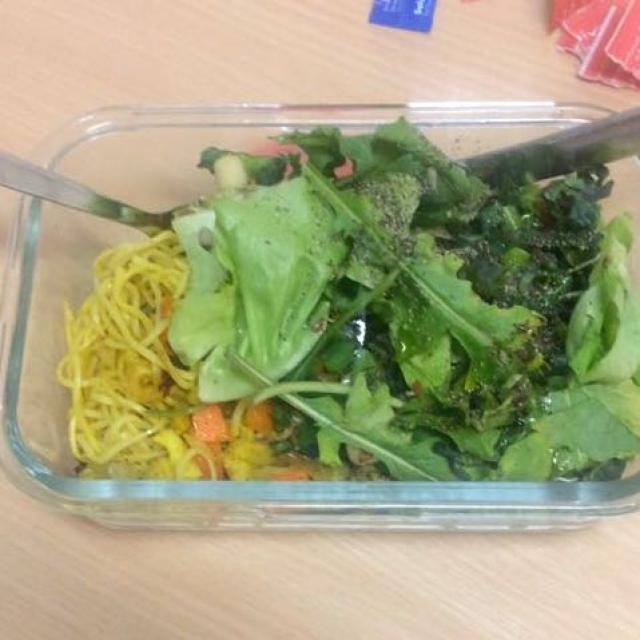rice-noodles-vermicelli: (79, 230, 316, 477)
salad-leaf-salad-green: (175, 125, 629, 472)
